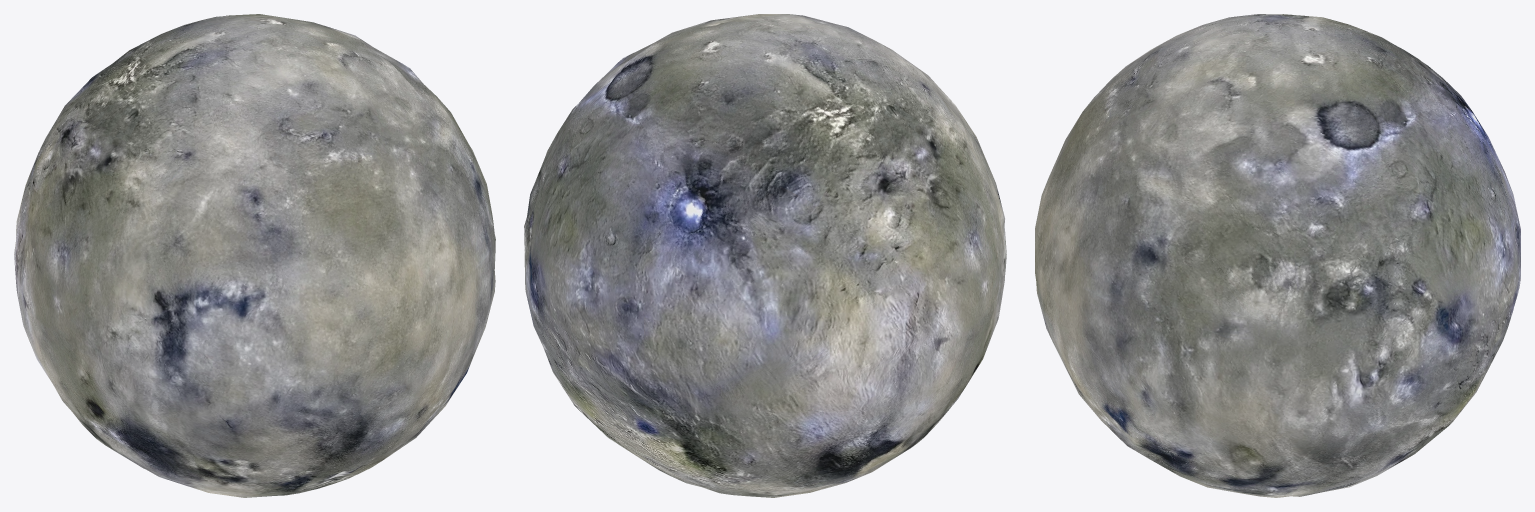
Rendered from Asteroid5.glb.
3 renders of one model, left to right at view 1: azimuth 30°, elevation 25°; view 2: azimuth 150°, elevation 25°; view 3: azimuth 270°, elevation 25°, orthographic.
Visible parts, largest first — view 1: mesh_node; view 2: mesh_node; view 3: mesh_node.
Boxes of the visible parts, x1,y1,x2,y2 form: mesh_node: (14, 14, 495, 497); mesh_node: (524, 14, 1006, 497); mesh_node: (1035, 14, 1520, 497).
Size of the model in its own units: 1 by 1 by 1.
Materials: 1 (1 with a texture image).
